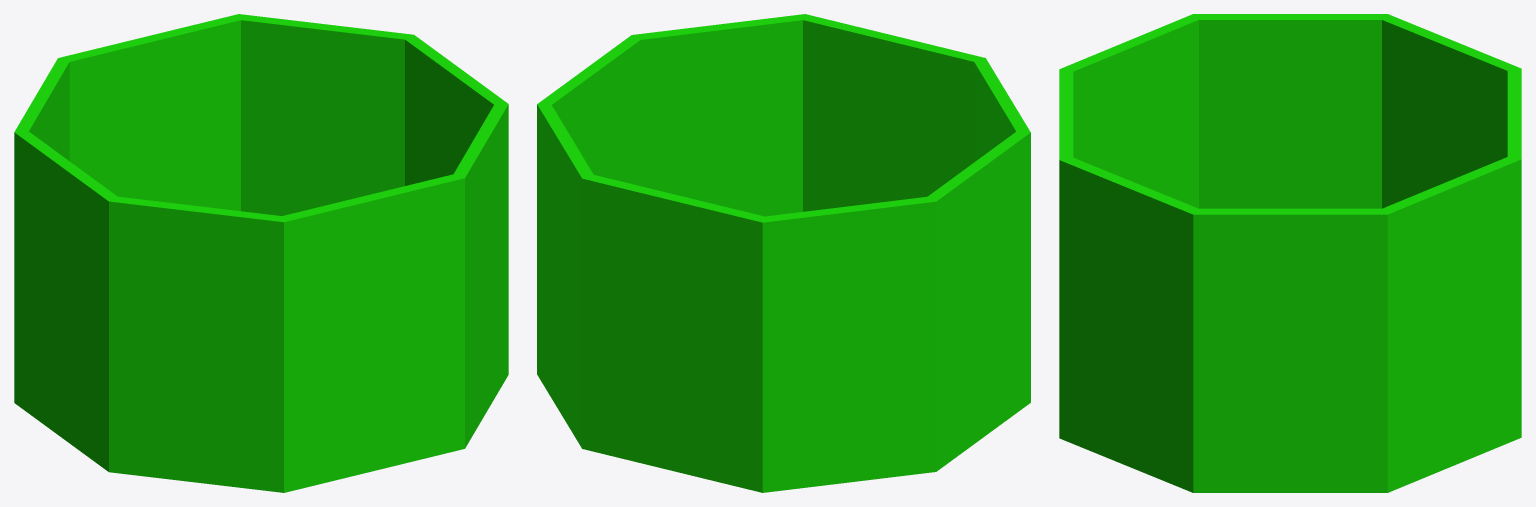
File: sm_wall_360large_collider.fbx
The picture shows the model from 3 angles, left to right: view 1: azimuth 30°, elevation 25°; view 2: azimuth 150°, elevation 25°; view 3: azimuth 270°, elevation 25°; orthographic projection. The views are drawn at different scales.
Visible parts, largest first — view 1: sm_wall_360large_collider; view 2: sm_wall_360large_collider; view 3: sm_wall_360large_collider.
Part boxes in pixels (x1,y1,x2,y2): sm_wall_360large_collider: (14, 14, 508, 492); sm_wall_360large_collider: (537, 14, 1030, 492); sm_wall_360large_collider: (1059, 14, 1521, 492).
Bounding box in the file's own units: 23.36 × 15.12 × 22.75.
